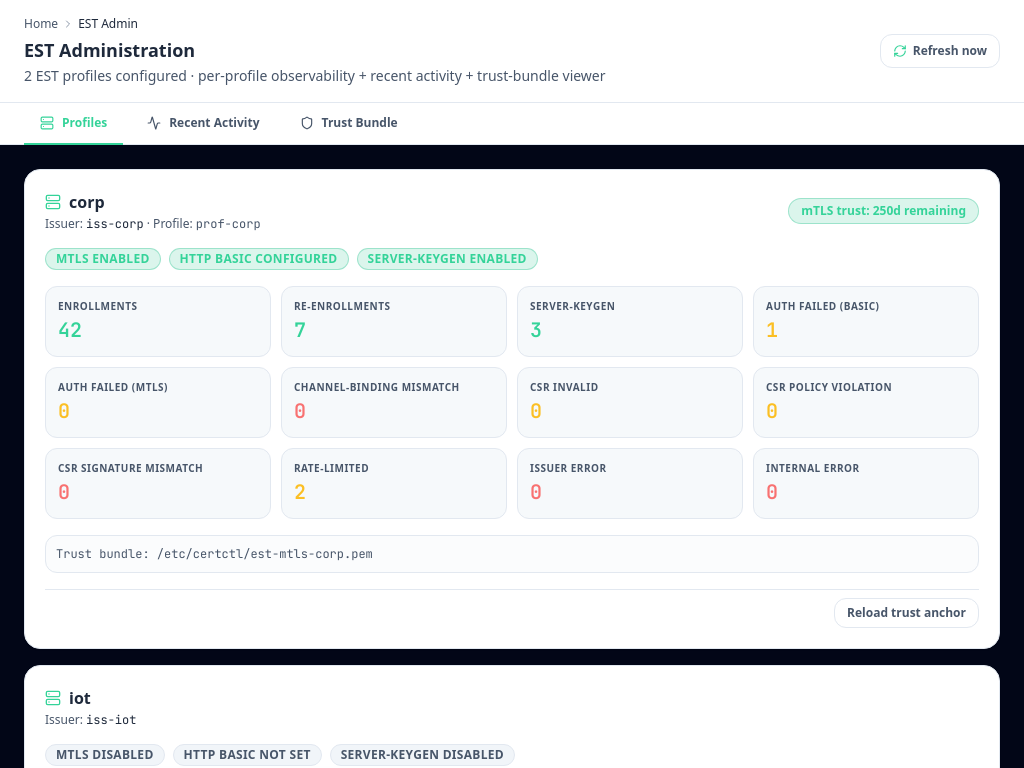
Test: ESTAdminPage — reload modal › Error keeps the modal open + surfaces the message
The image size is (1024, 768).
Click the button with test id "est-reload-trust-corp": (906, 613) top-left (834, 598), bottom-right (979, 628)
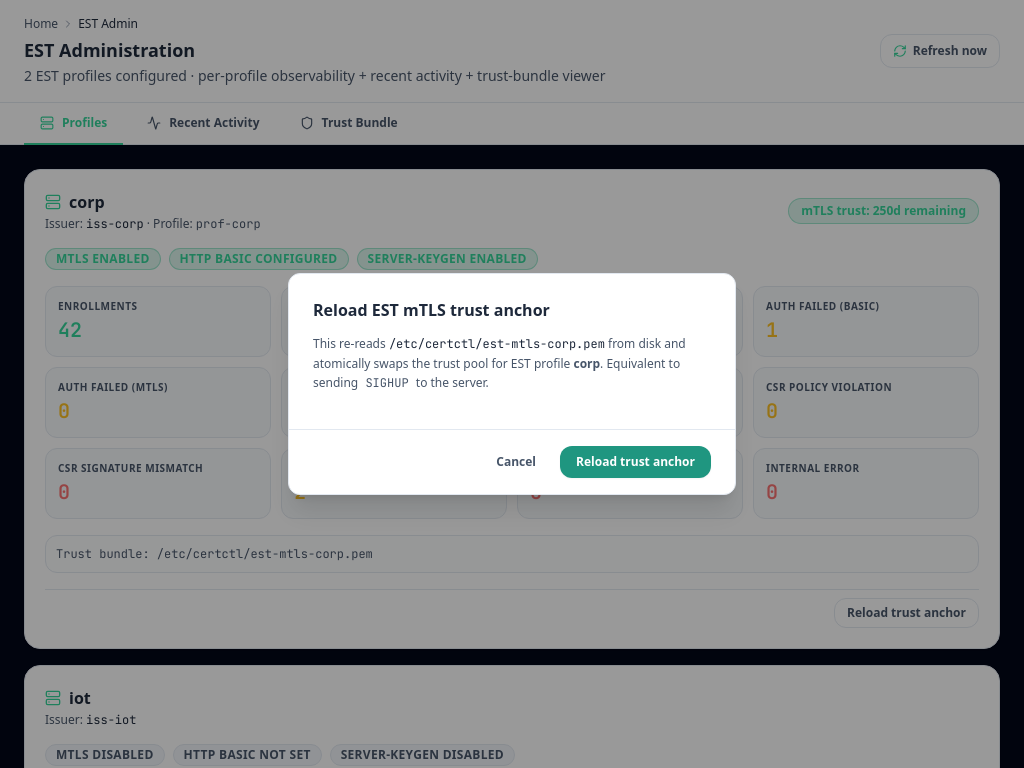
Click the button with test id "est-reload-confirm": (636, 462) top-left (560, 446), bottom-right (711, 478)
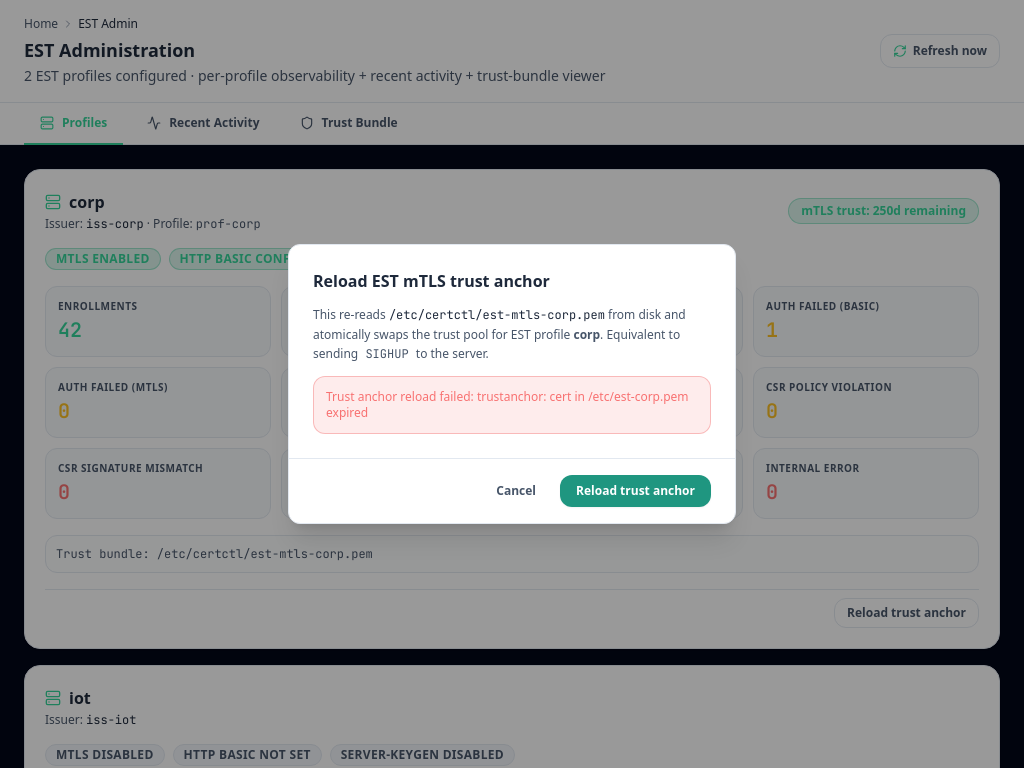
Expected: the button with test id "est-reload-confirm" is shown, top-left (560, 475), bottom-right (711, 507)
Expected: the text with test id "est-reload-error" shows "expired", top-left (326, 388), bottom-right (689, 421)
